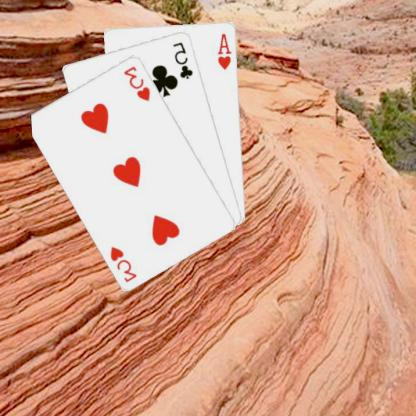3H: (122, 63, 154, 102), (109, 244, 140, 284)
5C: (172, 39, 196, 80)
AH: (216, 30, 235, 71)
